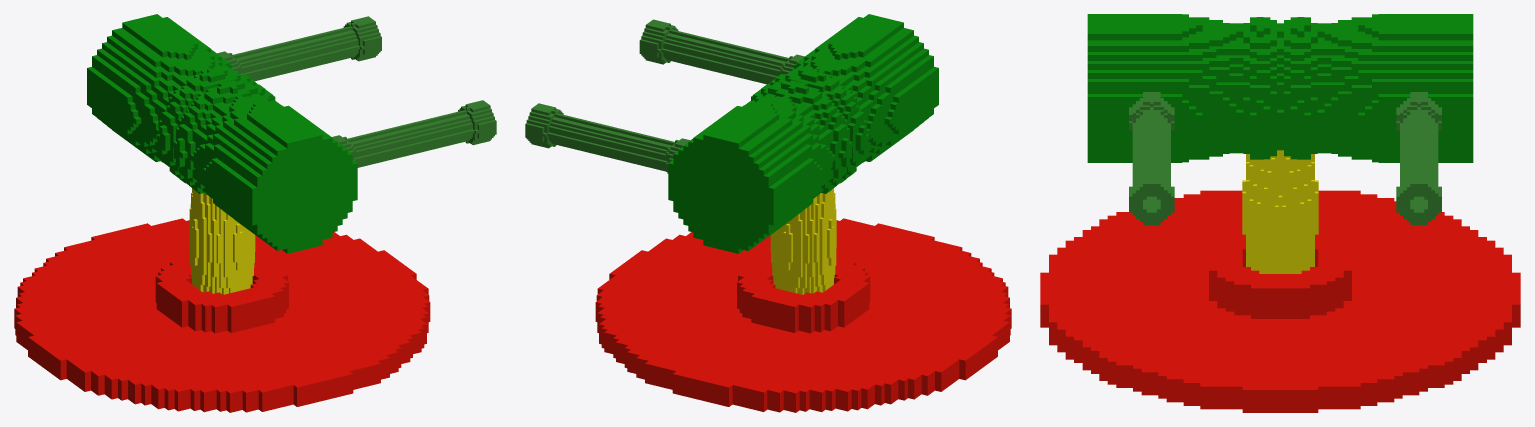
Rendered from turrent2_blocky.fbx.
3 views of the same model, side by side, from view 1: azimuth 30°, elevation 25°; view 2: azimuth 150°, elevation 25°; view 3: azimuth 270°, elevation 25° (orthographic). The views are drawn at different scales.
Visible parts, largest first — view 1: A_turrent.base, A_turrent.head, A_turrent.body, A_turrent.gun1, A_turrent.gun2; view 2: A_turrent.base, A_turrent.head, A_turrent.body, A_turrent.gun2, A_turrent.gun1; view 3: A_turrent.base, A_turrent.head, A_turrent.body, A_turrent.gun1, A_turrent.gun2.
Part boxes in pixels (x1,y1,x2,y2): A_turrent.base: (14, 218, 430, 412); A_turrent.head: (87, 14, 357, 253); A_turrent.body: (189, 188, 255, 294); A_turrent.gun1: (332, 100, 496, 167); A_turrent.gun2: (217, 16, 381, 81); A_turrent.base: (595, 218, 1011, 412); A_turrent.head: (668, 14, 938, 253); A_turrent.body: (770, 188, 836, 294); A_turrent.gun2: (525, 103, 689, 173); A_turrent.gun1: (639, 19, 804, 84); A_turrent.base: (1040, 190, 1520, 412); A_turrent.head: (1087, 14, 1473, 162); A_turrent.body: (1242, 150, 1318, 273); A_turrent.gun1: (1129, 92, 1174, 225); A_turrent.gun2: (1396, 92, 1441, 225).
Bounding box in the file's own units: 215 × 131 × 198.
